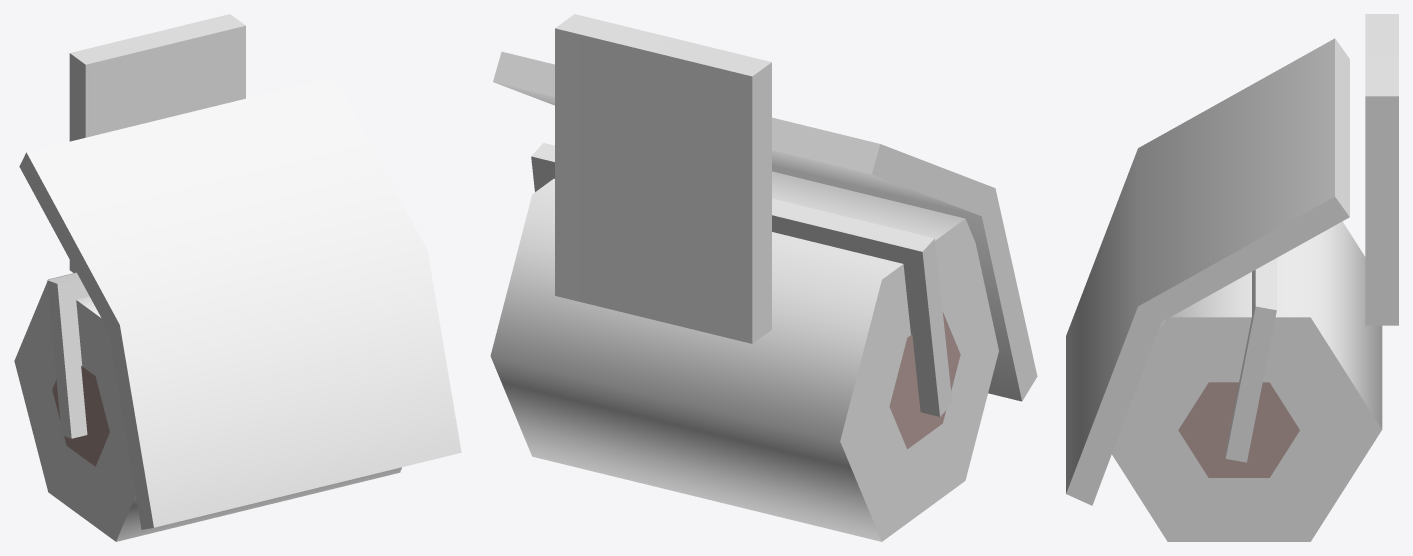
The model's file is bathroom_item_038.glb.
The picture shows the model from 3 angles, left to right: view 1: azimuth 30°, elevation 25°; view 2: azimuth 150°, elevation 25°; view 3: azimuth 270°, elevation 25°; orthographic projection. The views are drawn at different scales.
Parts seen in each view (by area): view 1: bathroom_item_038; view 2: bathroom_item_038; view 3: bathroom_item_038.
Boxes of the visible parts, x1,y1,x2,y2 form: bathroom_item_038: [14, 14, 461, 541]; bathroom_item_038: [490, 14, 1037, 541]; bathroom_item_038: [1066, 14, 1398, 541].
Size of the model in its own units: 0.1684 by 0.199 by 0.1448.
Materials: 1 (1 with a texture image).
